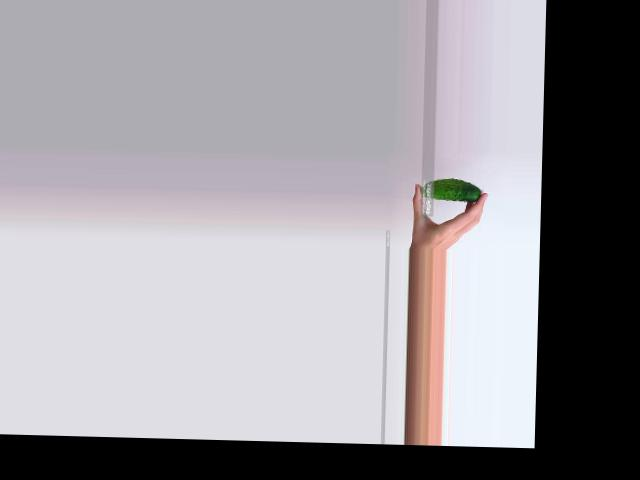cucumber: (420, 177, 481, 201)
